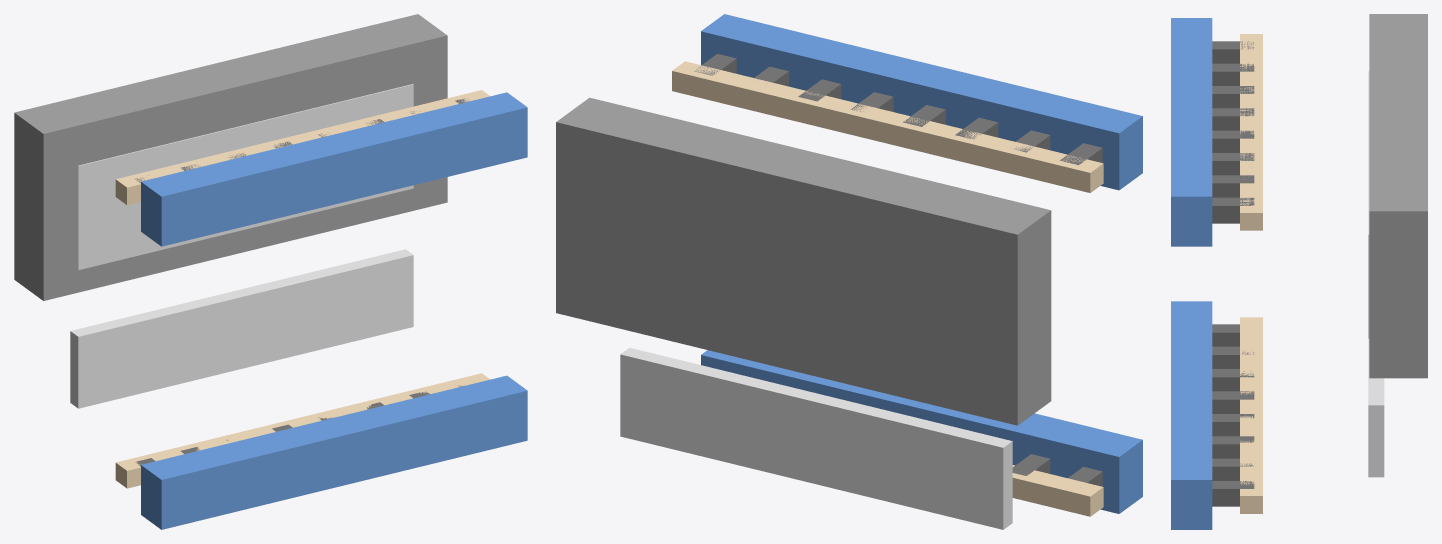
The model's file is sky130_ef_sc_hd__fill_8.gds.gltf.
3 renders of one model, left to right at view 1: azimuth 30°, elevation 25°; view 2: azimuth 150°, elevation 25°; view 3: azimuth 270°, elevation 25°, orthographic. The views are drawn at different scales.
Visible parts, largest first — view 1: sky130_ef_sc_hd__fill_8_met1, sky130_ef_sc_hd__fill_8_nwell, sky130_ef_sc_hd__fill_8_diff, sky130_ef_sc_hd__fill_8_li1, sky130_ef_sc_hd__fill_8_mcon; view 2: sky130_ef_sc_hd__fill_8_nwell, sky130_ef_sc_hd__fill_8_diff, sky130_ef_sc_hd__fill_8_met1, sky130_ef_sc_hd__fill_8_li1, sky130_ef_sc_hd__fill_8_mcon; view 3: sky130_ef_sc_hd__fill_8_nwell, sky130_ef_sc_hd__fill_8_met1, sky130_ef_sc_hd__fill_8_mcon, sky130_ef_sc_hd__fill_8_li1, sky130_ef_sc_hd__fill_8_diff.
Part boxes in pixels (x1=…): sky130_ef_sc_hd__fill_8_met1: x1=141, y1=92, x2=527, y2=529; sky130_ef_sc_hd__fill_8_nwell: x1=14, y1=14, x2=447, y2=300; sky130_ef_sc_hd__fill_8_diff: x1=70, y1=84, x2=413, y2=408; sky130_ef_sc_hd__fill_8_li1: x1=115, y1=90, x2=489, y2=488; sky130_ef_sc_hd__fill_8_mcon: x1=135, y1=98, x2=469, y2=466; sky130_ef_sc_hd__fill_8_nwell: x1=556, y1=97, x2=1051, y2=425; sky130_ef_sc_hd__fill_8_diff: x1=620, y1=347, x2=1012, y2=529; sky130_ef_sc_hd__fill_8_met1: x1=701, y1=14, x2=1142, y2=513; sky130_ef_sc_hd__fill_8_li1: x1=672, y1=61, x2=1103, y2=516; sky130_ef_sc_hd__fill_8_mcon: x1=694, y1=54, x2=1102, y2=486; sky130_ef_sc_hd__fill_8_nwell: x1=1369, y1=14, x2=1427, y2=378; sky130_ef_sc_hd__fill_8_met1: x1=1171, y1=18, x2=1212, y2=529; sky130_ef_sc_hd__fill_8_mcon: x1=1212, y1=41, x2=1254, y2=506; sky130_ef_sc_hd__fill_8_li1: x1=1240, y1=34, x2=1262, y2=513; sky130_ef_sc_hd__fill_8_diff: x1=1368, y1=71, x2=1384, y2=477.
Bounding box in the file's own units: 4.06 × 3.2 × 2.24.
